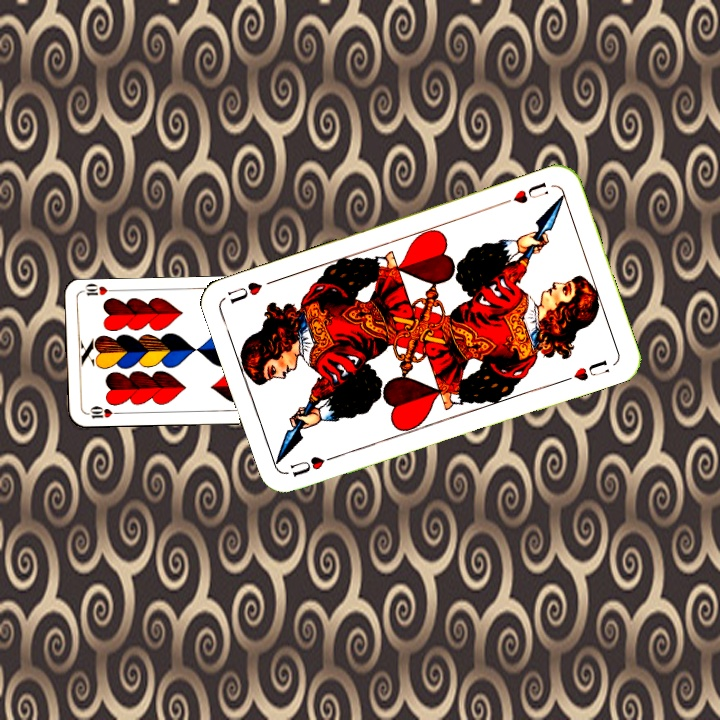H10: (82, 403, 122, 421)
HU: (286, 450, 341, 480), (498, 178, 551, 207)
